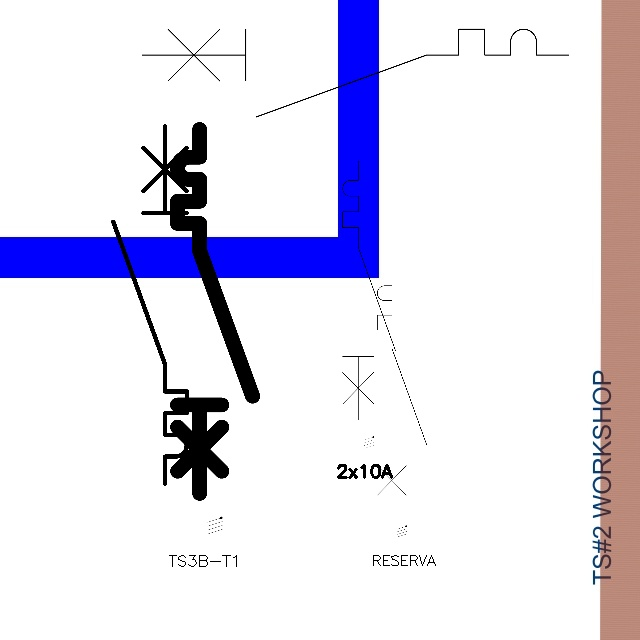interruptor_termomagnetico: (131, 18, 580, 128), (168, 120, 261, 503), (104, 117, 196, 493), (336, 154, 402, 426), (371, 261, 433, 516)
